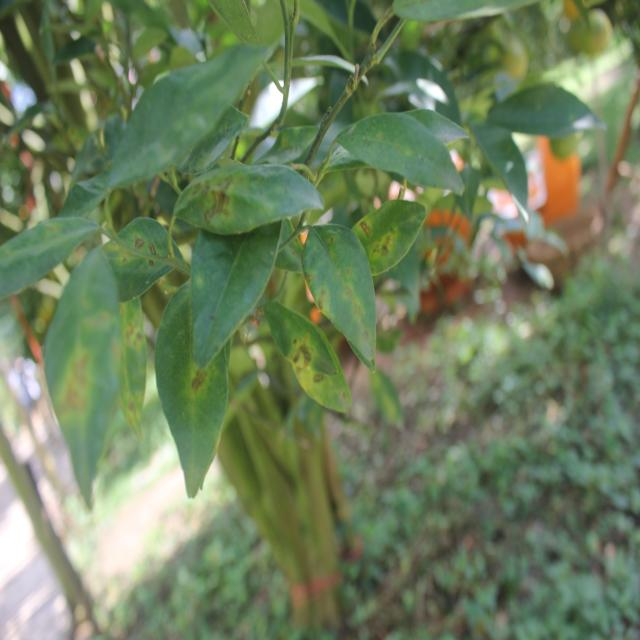canker: (307, 228, 377, 356), (58, 297, 116, 446), (186, 166, 272, 221), (287, 323, 344, 405), (104, 226, 174, 288), (110, 295, 144, 421), (349, 211, 404, 273), (185, 341, 218, 410)
